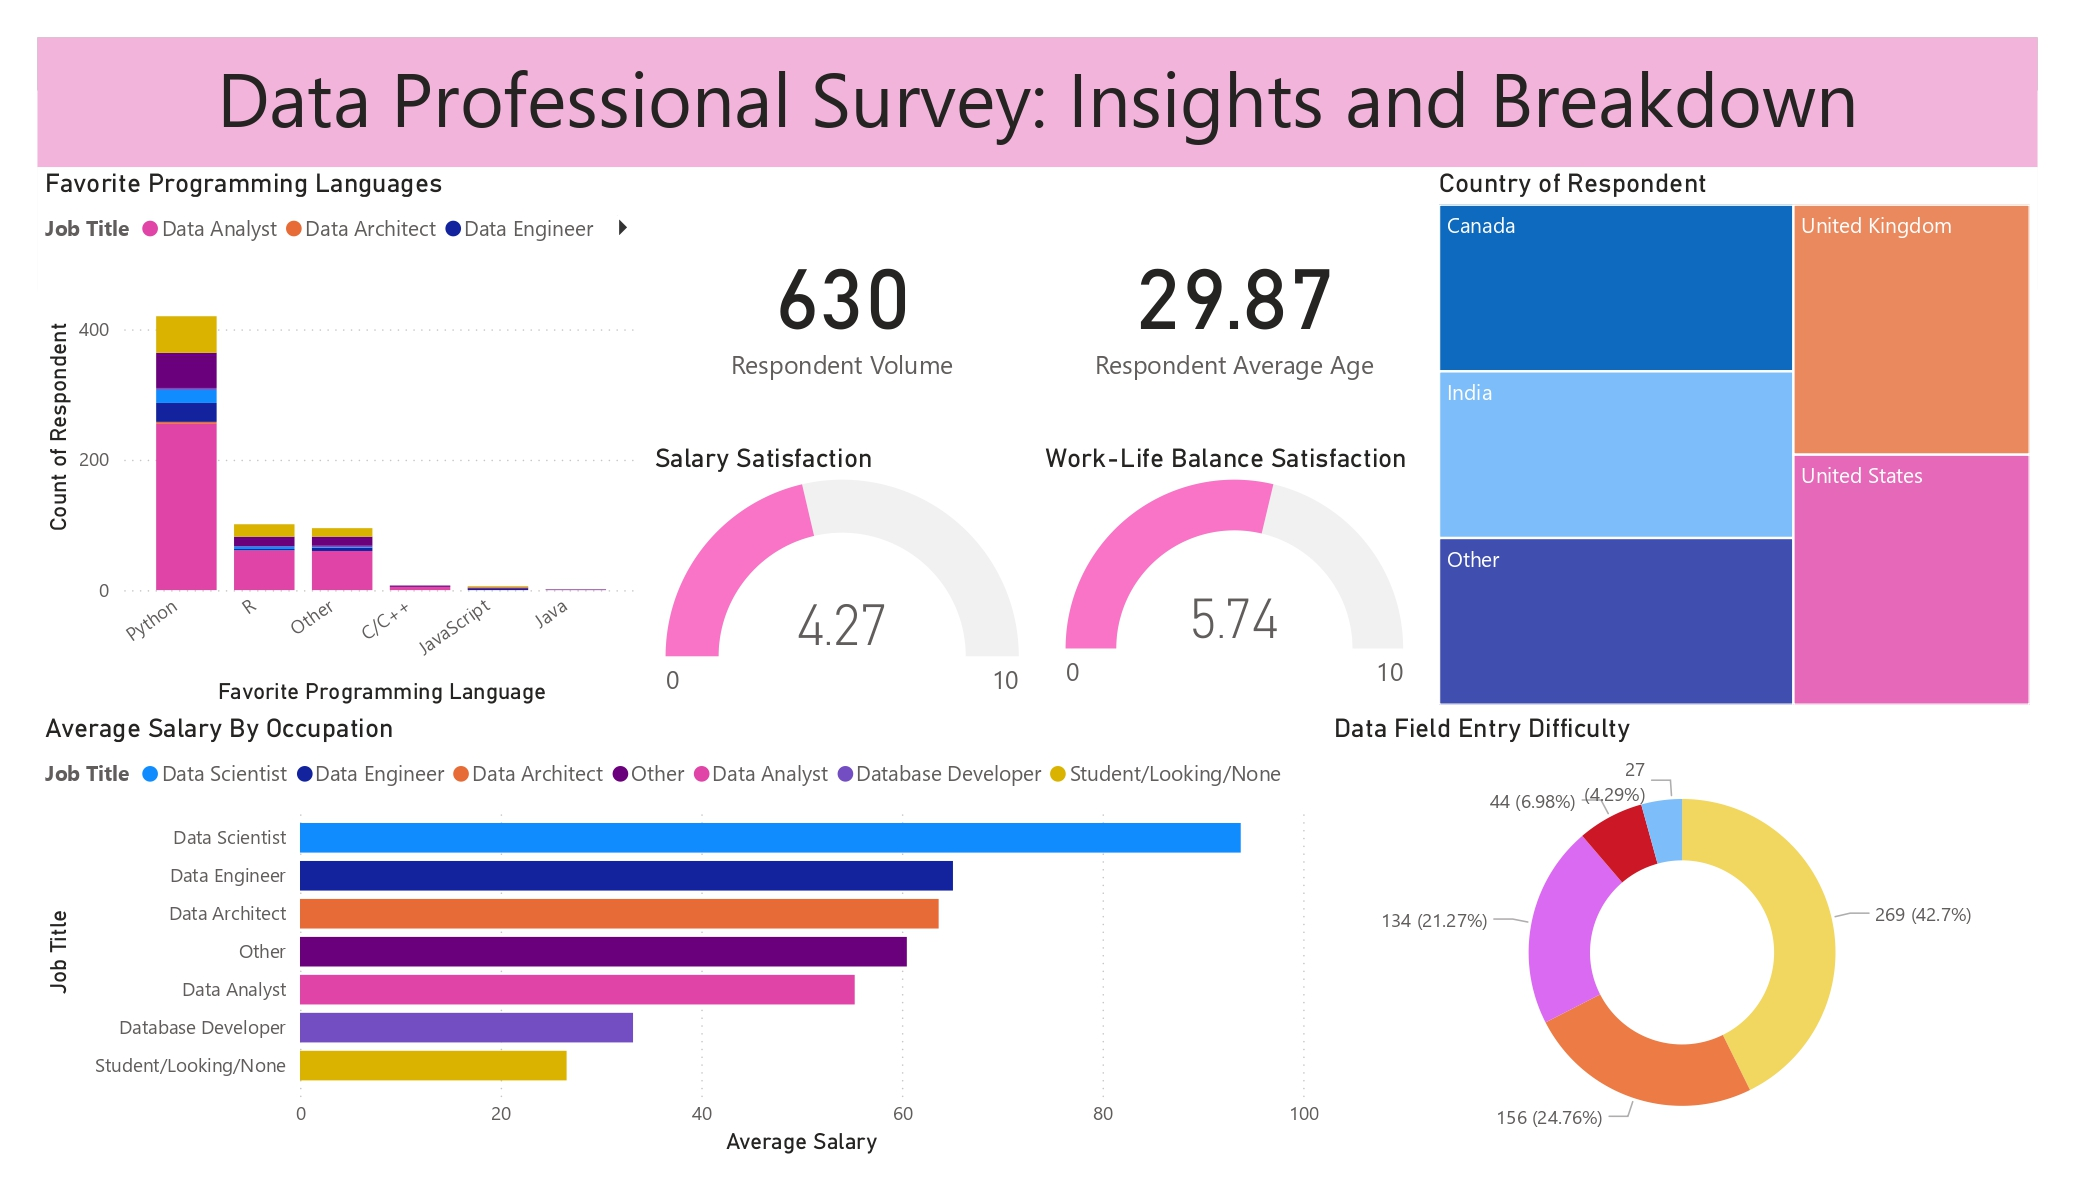

This screenshot's page, from the dashboard's own definition file:
{"tool":"powerbi","page":{"name":"Page 1","canvas":[1280,720],"ordinal":0},"visuals":[{"type":"textbox","box":[0,0,1280,83.5],"z":0},{"type":"card","fields":{"Values":["CountNonNull(Data Professional Survey.Unique ID)"]},"box":[389.6,83.5,250.4,175.1],"z":1},{"type":"card","fields":{"Values":["Avg(Data Professional Survey.Q10 - Current Age)"]},"box":[640,83.5,252.1,175.1],"z":2},{"type":"barChart","title":"Average Salary By Occupation","fields":{"Category":["Data Professional Survey.Q1 - Which Title Best Fits your Current Role?.1"],"Y":["Avg(Data Professional Survey.Average Salary)"],"Series":["Data Professional Survey.Q1 - Which Title Best Fits your Current Role?.1"]},"box":[0,432.1,825,288.1],"z":3},{"type":"columnChart","title":"Favorite Programming Languages","fields":{"Category":["Data Professional Survey.Q5 - Favorite Programming Language.1"],"Y":["CountNonNull(Data Professional Survey.Unique ID)"],"Series":["Data Professional Survey.Q1 - Which Title Best Fits your Current Role?.1"]},"box":[0,83.5,389.6,348.6],"z":4},{"type":"treemap","title":"Country of Respondent","fields":{"Group":["Data Professional Survey.Q11 - Which Country do you live in?.1"],"Values":["Count(Data Professional Survey.Q11 - Which Country do you live in?.1)"]},"box":[892.1,83.5,387.9,348.6],"z":5},{"type":"gauge","title":"Work-Life Balance Satisfaction","fields":{"Y":["Avg(Data Professional Survey.Q6 - How Happy are you in your Current Position with the following? (Work/Life Balance))"],"MinValue":["Min(Data Professional Survey.Q6 - How Happy are you in your Current Position with the following? (Work/Life Balance))1"],"MaxValue":["Max(Data Professional Survey.Q6 - How Happy are you in your Current Position with the following? (Work/Life Balance))2"]},"box":[640,258.6,252.1,168.6],"z":6},{"type":"gauge","title":"Salary Satisfaction","fields":{"Y":["Avg(Data Professional Survey.Q6 - How Happy are you in your Current Position with the following? (Salary))"],"MinValue":["Min(Data Professional Survey.Q6 - How Happy are you in your Current Position with the following? (Salary))1"],"MaxValue":["Max(Data Professional Survey.Q6 - How Happy are you in your Current Position with the following? (Salary))2"]},"box":[389.6,258.6,250.4,173.5],"z":7},{"type":"donutChart","title":"Data Field Entry Difficulty","fields":{"Category":["Data Professional Survey.Q7 - How difficult was it for you to break into Data?"],"Y":["CountNonNull(Data Professional Survey.Q7 - How difficult was it for you to break into Data?)"]},"box":[825,432.1,455,288.1],"z":8}]}

Visuals, with their boxes in screenshot pixels (x1, y1, x2, y2):
textbox: l=38, t=38, r=2038, b=168
card - CountNonNull(Data Professional Survey.Unique ID): l=646, t=168, r=1038, b=442
card - Avg(Data Professional Survey.Q10 - Current Age): l=1038, t=168, r=1431, b=442
"Average Salary By Occupation" barChart: l=38, t=713, r=1327, b=1162
"Favorite Programming Languages" columnChart: l=38, t=168, r=646, b=713
"Country of Respondent" treemap: l=1431, t=168, r=2038, b=713
"Work-Life Balance Satisfaction" gauge: l=1038, t=442, r=1431, b=705
"Salary Satisfaction" gauge: l=646, t=442, r=1038, b=713
"Data Field Entry Difficulty" donutChart: l=1327, t=713, r=2038, b=1162
